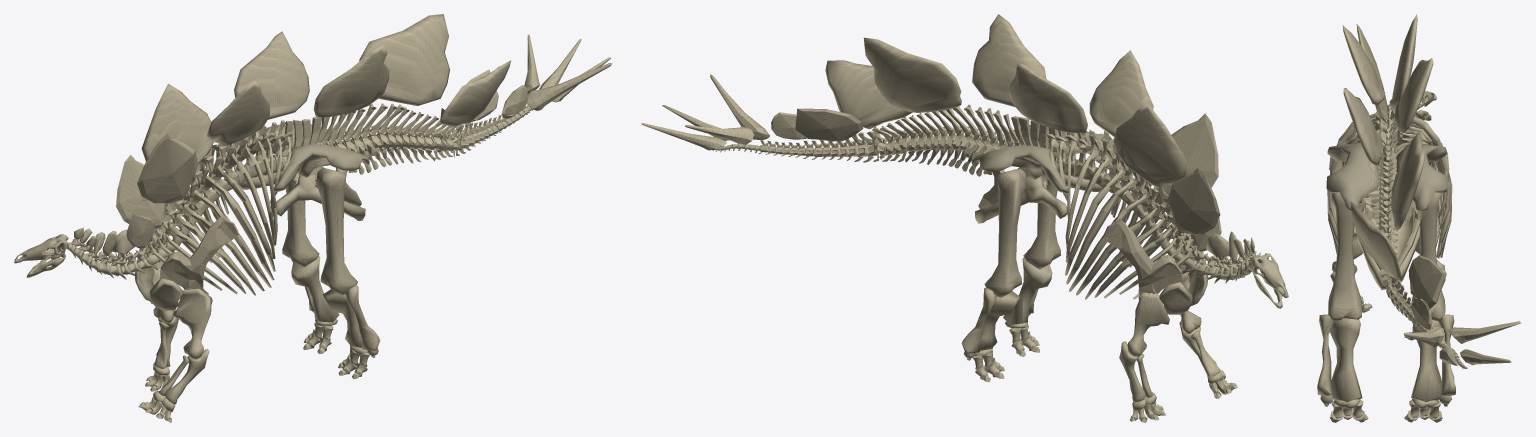
3 renders of one model, left to right at view 1: azimuth 30°, elevation 25°; view 2: azimuth 150°, elevation 25°; view 3: azimuth 270°, elevation 25°, orthographic. The views are drawn at different scales.
Parts seen in each view (by area): view 1: Stegosaurus_Lowpoly; view 2: Stegosaurus_Lowpoly; view 3: Stegosaurus_Lowpoly.
Boxes of the visible parts, x1,y1,x2,y2 form: Stegosaurus_Lowpoly: (14,14,612,422); Stegosaurus_Lowpoly: (641,14,1288,422); Stegosaurus_Lowpoly: (1317,14,1521,422).
Bounding box in the file's own units: 849 × 431 × 229.
1 material, 1 textured.
